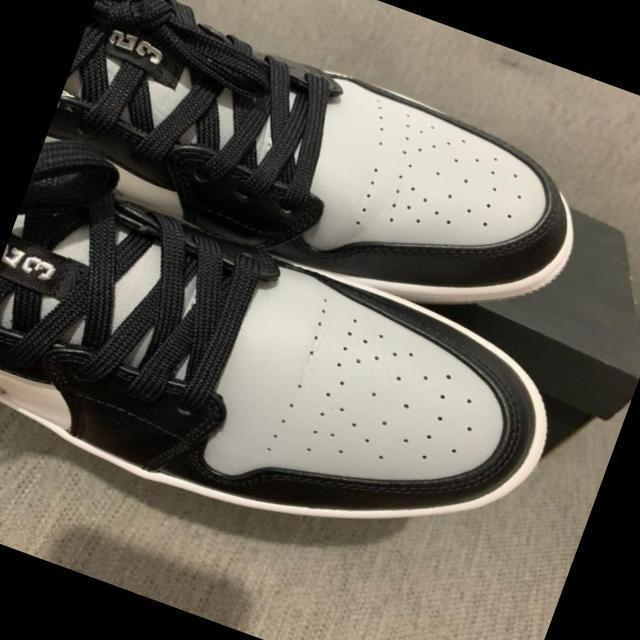nike fake jordan 1: (0, 165, 581, 604), (34, 0, 609, 354)
